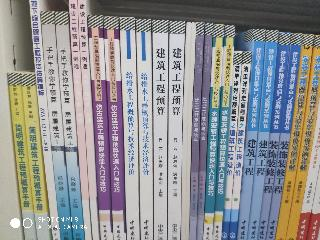book-spine: (276, 33, 315, 240), (265, 33, 302, 240), (29, 0, 60, 240), (284, 35, 320, 240), (256, 32, 290, 240), (42, 11, 72, 240), (56, 12, 85, 239), (247, 30, 278, 240), (236, 29, 266, 239), (70, 1, 92, 240), (89, 15, 112, 240), (104, 16, 126, 239), (21, 73, 50, 240), (79, 1, 99, 239), (8, 73, 36, 240), (165, 21, 186, 239), (203, 25, 224, 239), (213, 26, 234, 239), (229, 53, 251, 239), (121, 18, 139, 239), (222, 51, 241, 239), (137, 19, 152, 239), (152, 20, 167, 239), (181, 23, 195, 240), (190, 23, 204, 239), (198, 24, 212, 239)
